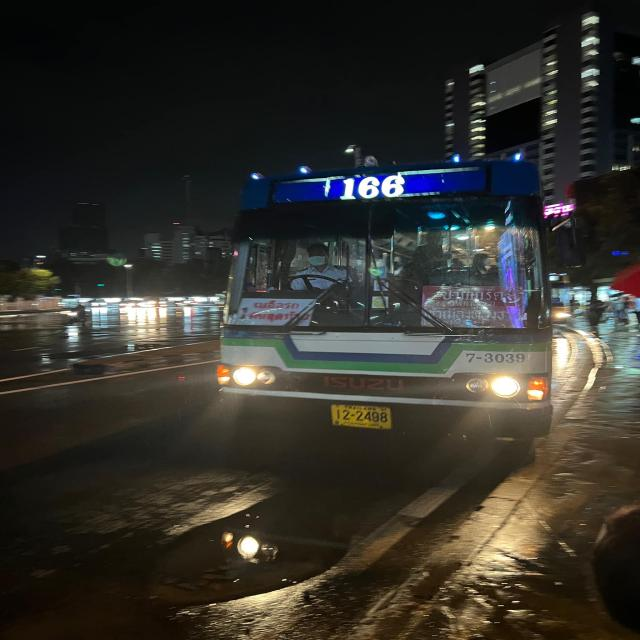BMTA-bus: (208, 145, 564, 449)
Bus-Line-Number: (338, 172, 409, 201)
Destination-Sign-Extra-Bus: (422, 284, 528, 330)
